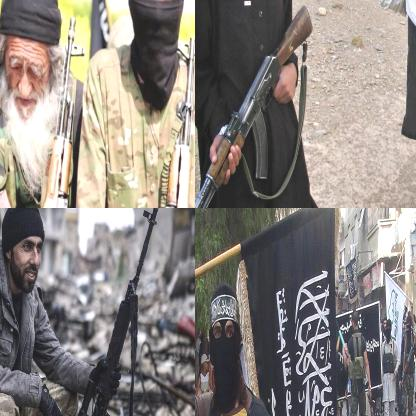rifle: (195, 3, 316, 207), (62, 208, 168, 415), (0, 15, 88, 207), (158, 34, 194, 207), (397, 335, 415, 392), (366, 389, 383, 415)
